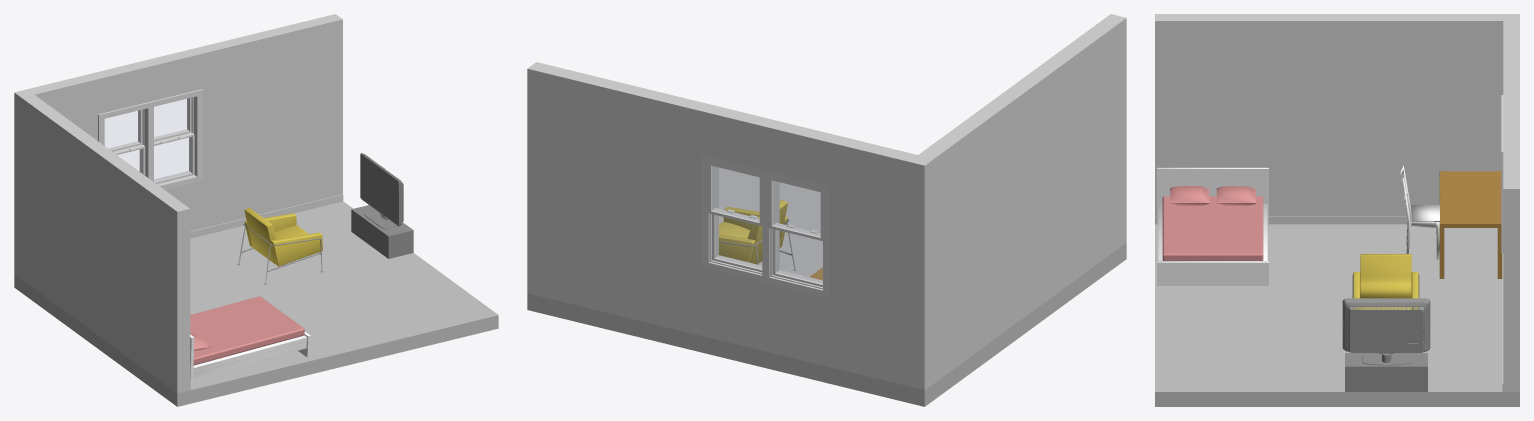
The model's file is L14_W16_furniture3_privacy1.glb.
3 renders of one model, left to right at view 1: azimuth 30°, elevation 25°; view 2: azimuth 150°, elevation 25°; view 3: azimuth 270°, elevation 25°, orthographic. The views are drawn at different scales.
Bounding box in the file's own units: 200 × 116 × 176.
